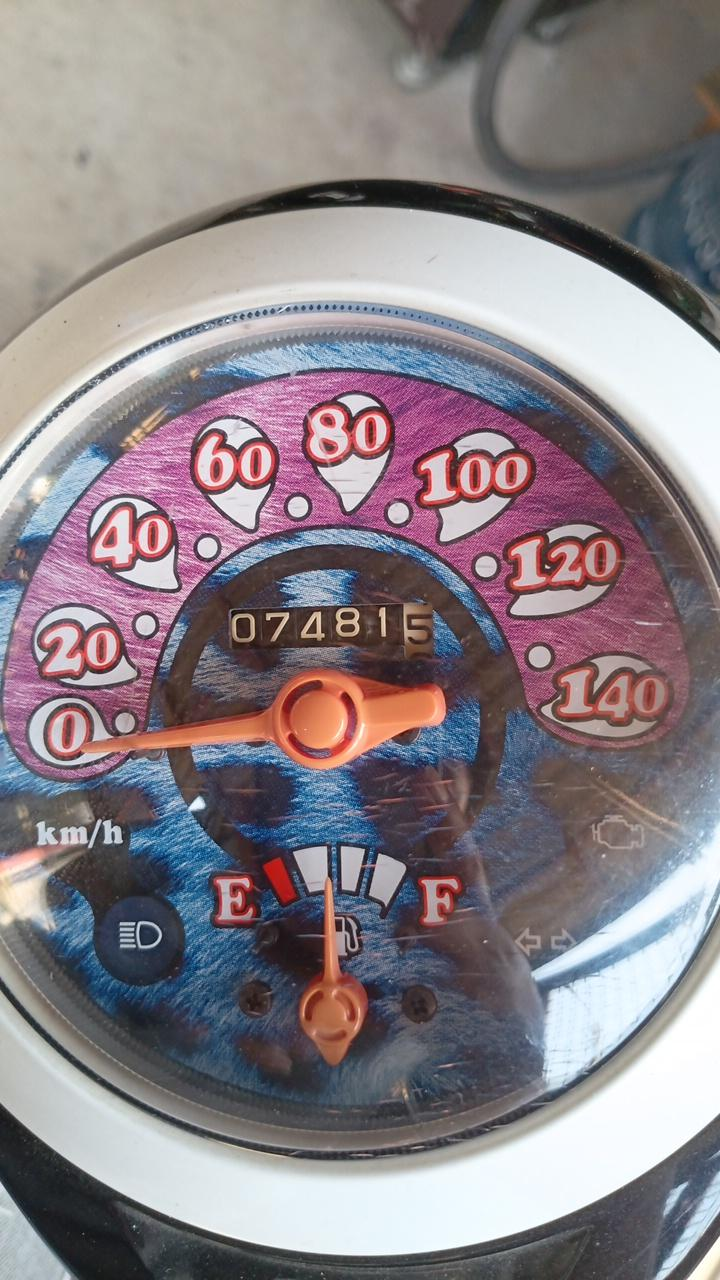0: (231, 612, 256, 645)
1: (377, 606, 388, 639)
4: (299, 611, 326, 642)
5: (406, 613, 434, 645)
7: (264, 612, 290, 643)
8: (335, 608, 361, 637)
odometer: (226, 600, 436, 663)
